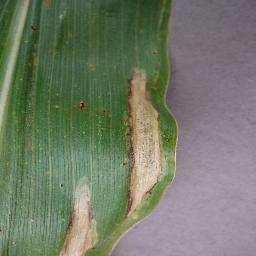Corn_Blight: (118, 64, 166, 225), (54, 173, 103, 256), (23, 19, 41, 72), (71, 92, 92, 121), (142, 39, 160, 61), (64, 26, 81, 46), (28, 0, 56, 12)
